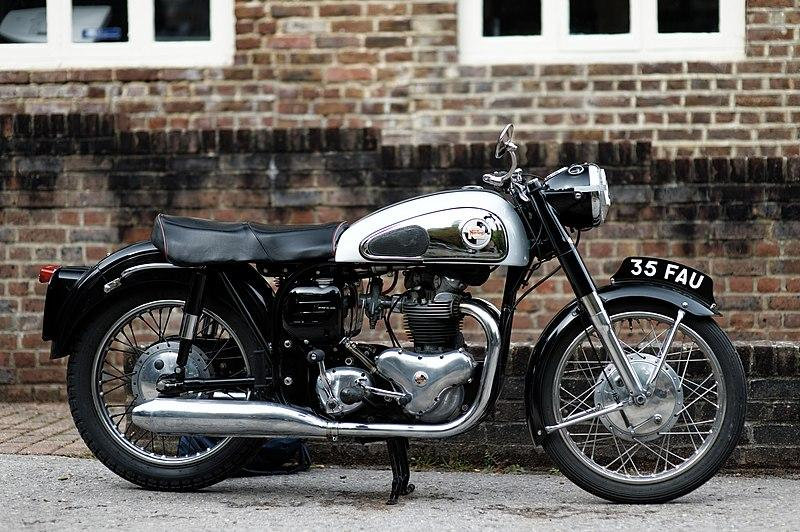motorcycle: (35, 120, 754, 518)
